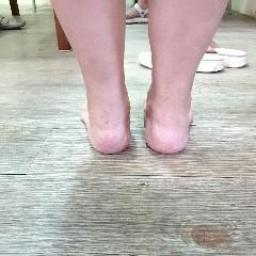Back View -Both Feet-: (70, 75, 203, 163)
